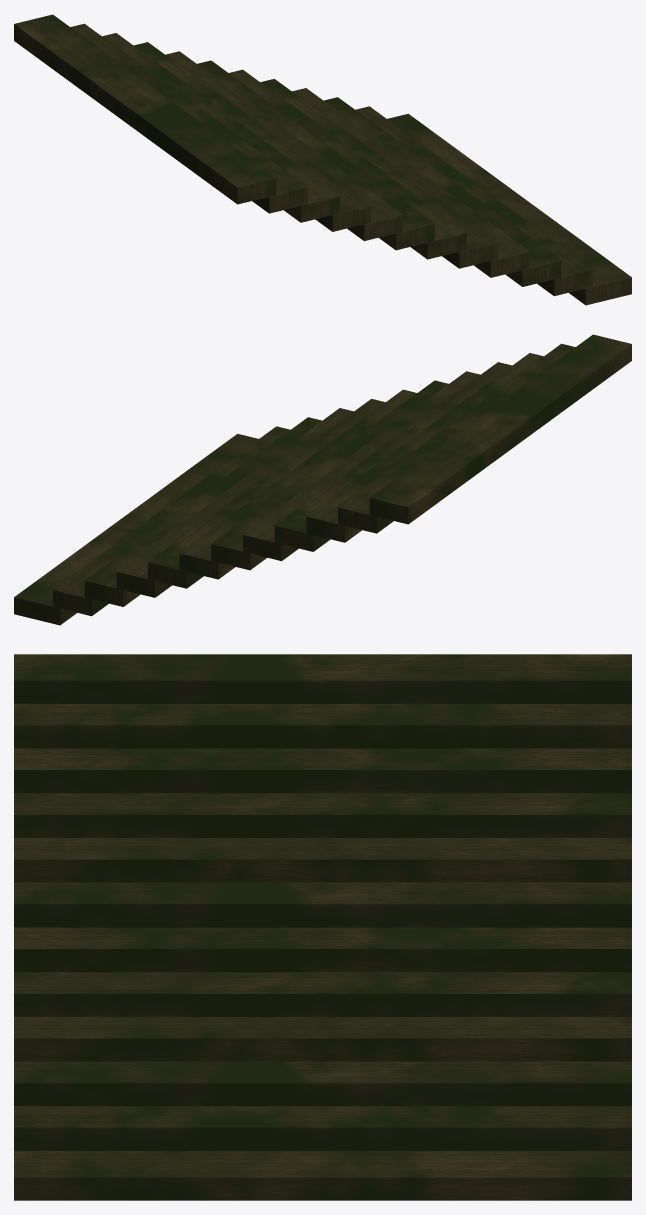
File: underground_stairs_wood.fbx
3 views of the same model, one above another, from view 1: azimuth 30°, elevation 25°; view 2: azimuth 150°, elevation 25°; view 3: azimuth 270°, elevation 25° (orthographic). The views are drawn at different scales.
Parts seen in each view (by area): view 1: underground_stairs; view 2: underground_stairs; view 3: underground_stairs.
Boxes of the visible parts, <box> form: underground_stairs: <box>14,14,631,305</box>; underground_stairs: <box>14,334,631,625</box>; underground_stairs: <box>14,654,631,1200</box>.
Size of the model in its own units: 336 by 165 by 330.
1 material, 1 textured.
